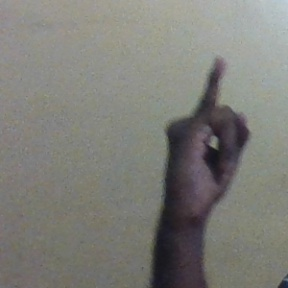I: (163, 55, 251, 215)
